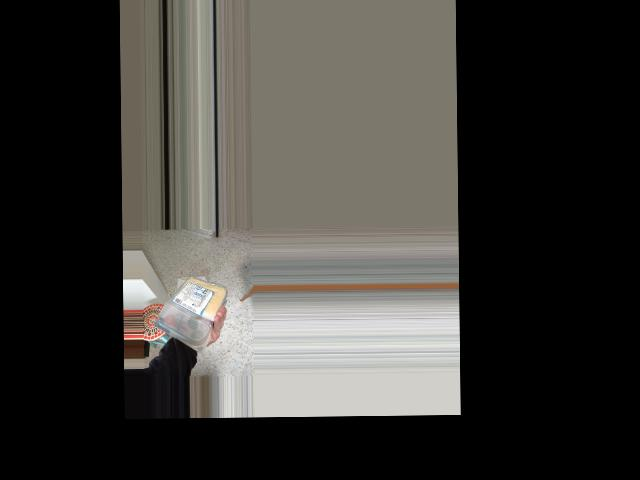cheese: (153, 271, 219, 342)
